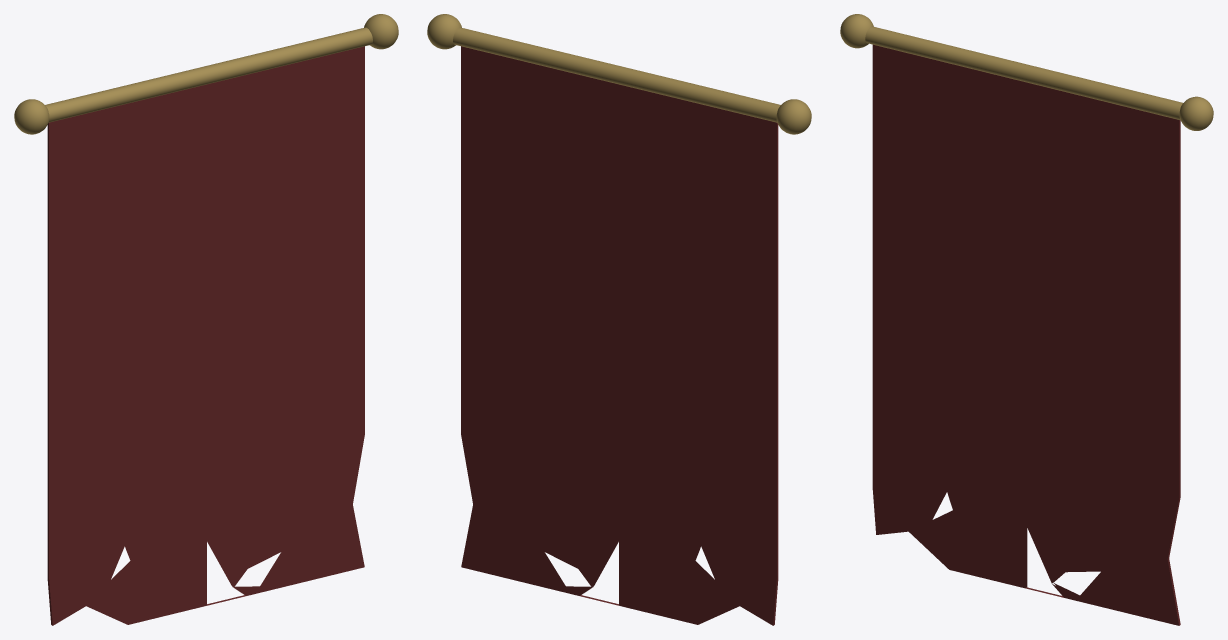
File: School_Flag.fbx
The picture shows the model from 3 angles, left to right: view 1: azimuth 30°, elevation 25°; view 2: azimuth 150°, elevation 25°; view 3: azimuth 330°, elevation 25°; orthographic projection. The views are drawn at different scales.
Parts seen in each view (by area): view 1: pCube1, pCylinder1, pSphere1, pSphere2; view 2: pCube1, pCylinder1, pSphere1, pSphere2; view 3: pCube1, pCylinder1, pSphere2, pSphere1.
Boxes of the visible parts, x1,y1,x2,y2 form: pCube1: [47, 46, 364, 625]; pCylinder1: [45, 27, 372, 122]; pSphere1: [14, 99, 49, 134]; pSphere2: [364, 14, 398, 49]; pCube1: [461, 46, 778, 625]; pCylinder1: [453, 27, 780, 122]; pSphere1: [776, 99, 811, 134]; pSphere2: [427, 14, 461, 49]; pCube1: [872, 44, 1180, 625]; pCylinder1: [865, 26, 1182, 120]; pSphere2: [1179, 96, 1213, 130]; pSphere1: [840, 14, 873, 48].
Bounding box in the file's own units: 1.34 × 1.84 × 0.1083.
